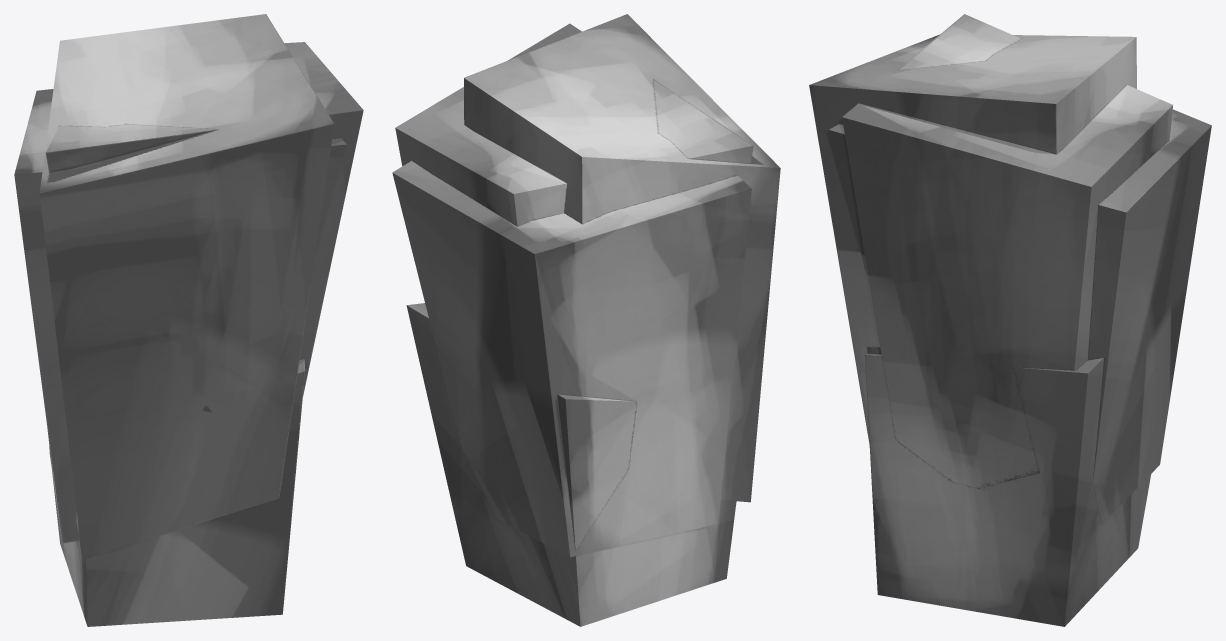
The model's file is Chalkvein.M.fbx.
3 views of the same model, side by side, from view 1: azimuth 30°, elevation 25°; view 2: azimuth 150°, elevation 25°; view 3: azimuth 270°, elevation 25° (orthographic). The views are drawn at different scales.
Parts seen in each view (by area): view 1: Chalkvein.M; view 2: Chalkvein.M; view 3: Chalkvein.M.
Part boxes in pixels (x1,y1,x2,y2): Chalkvein.M: [14, 14, 363, 626]; Chalkvein.M: [392, 14, 780, 626]; Chalkvein.M: [809, 14, 1211, 626].
Bounding box in the file's own units: 6.12 × 6.04 × 8.82.
1 material, 1 textured.
